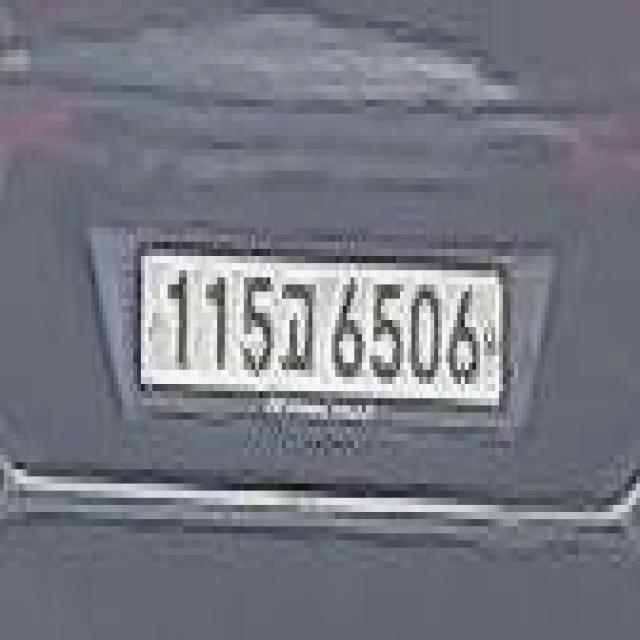illegal_plate: (132, 230, 512, 443)
